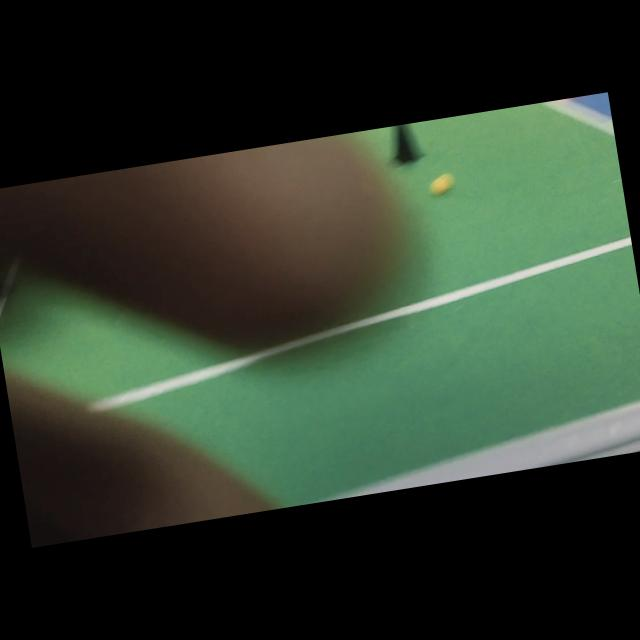ball: (429, 173, 455, 195)
goal: (571, 92, 612, 116)
